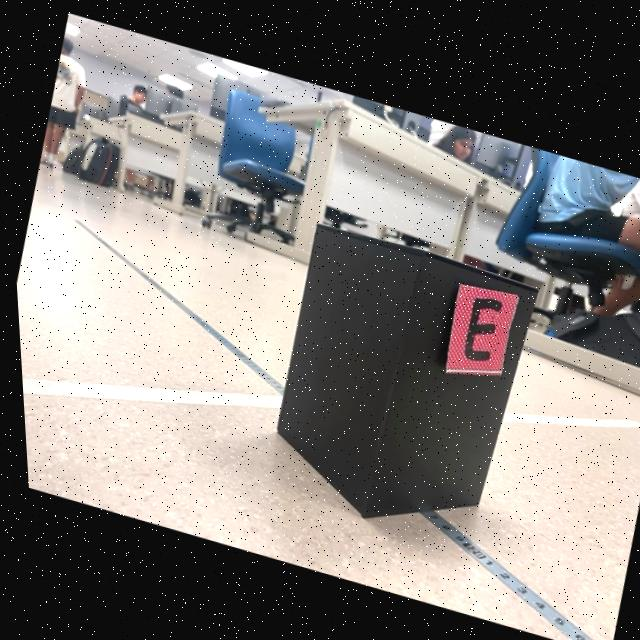E: (459, 293, 497, 355)
